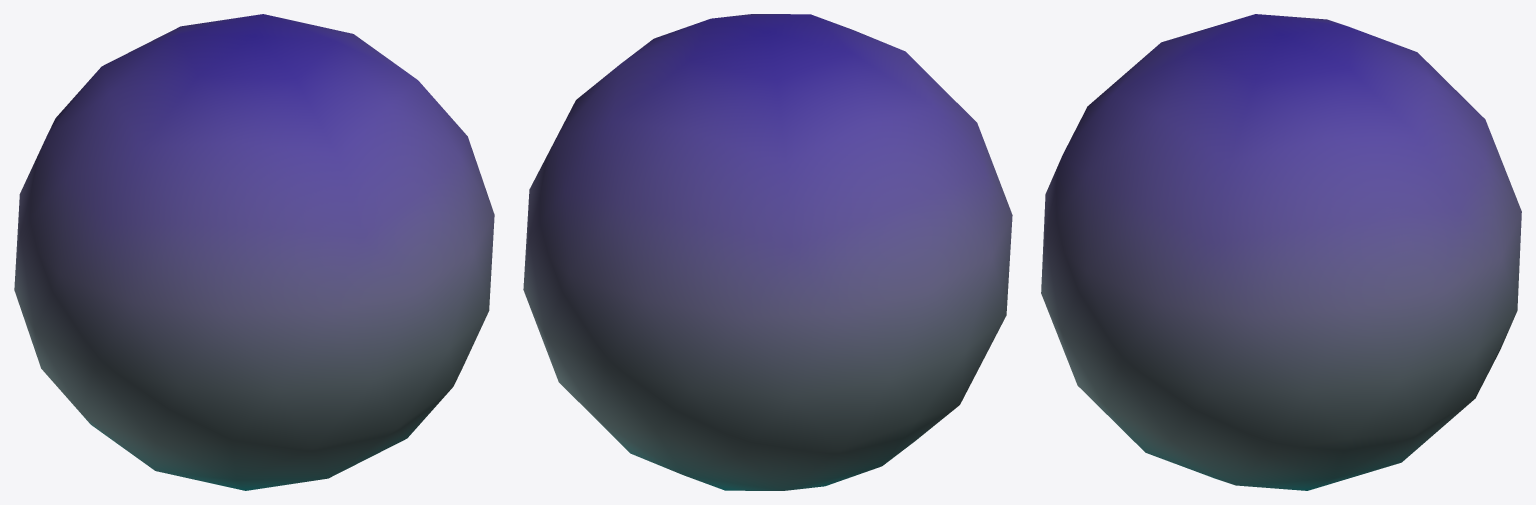
File: SkyDome13.dae
The picture shows the model from 3 angles, left to right: view 1: azimuth 30°, elevation 25°; view 2: azimuth 150°, elevation 25°; view 3: azimuth 270°, elevation 25°; orthographic projection.
Parts seen in each view (by area): view 1: F3:GeoDome1-0; view 2: F3:GeoDome1-0; view 3: F3:GeoDome1-0.
Part boxes in pixels (x1,y1,x2,y2): F3:GeoDome1-0: (14,14,494,490); F3:GeoDome1-0: (523,14,1012,490); F3:GeoDome1-0: (1041,14,1521,490).
Size of the model in its own units: 25 by 25 by 25.
